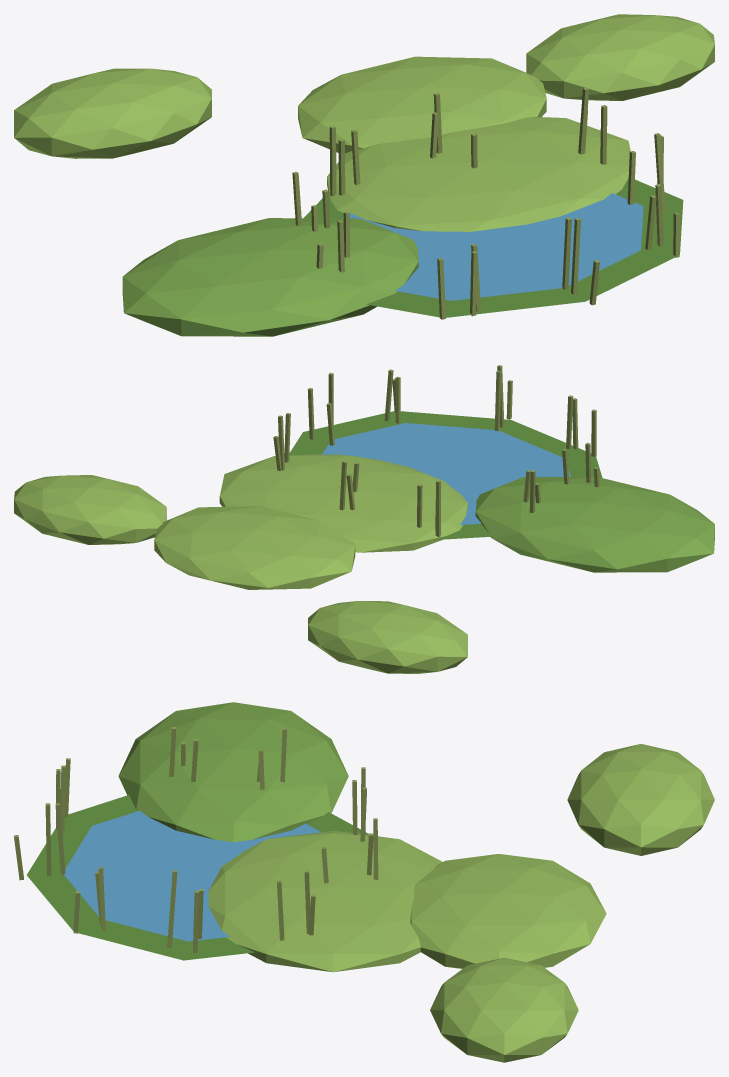
The model's file is Kir_cimen_sazlik_7.fbx.
The picture shows the model from 3 angles, top to bottom: view 1: azimuth 30°, elevation 25°; view 2: azimuth 150°, elevation 25°; view 3: azimuth 270°, elevation 25°; orthographic projection. The views are drawn at different scales.
Visible parts, largest first — view 1: Kir_cimen_sazlik_7; view 2: Kir_cimen_sazlik_7; view 3: Kir_cimen_sazlik_7.
Boxes of the visible parts, box(x1,y1,x2,y2) form: Kir_cimen_sazlik_7: box(14, 14, 714, 336); Kir_cimen_sazlik_7: box(14, 365, 714, 673); Kir_cimen_sazlik_7: box(14, 702, 714, 1062).
Bounding box in the file's own units: 14.62 × 2.08 × 12.4.
